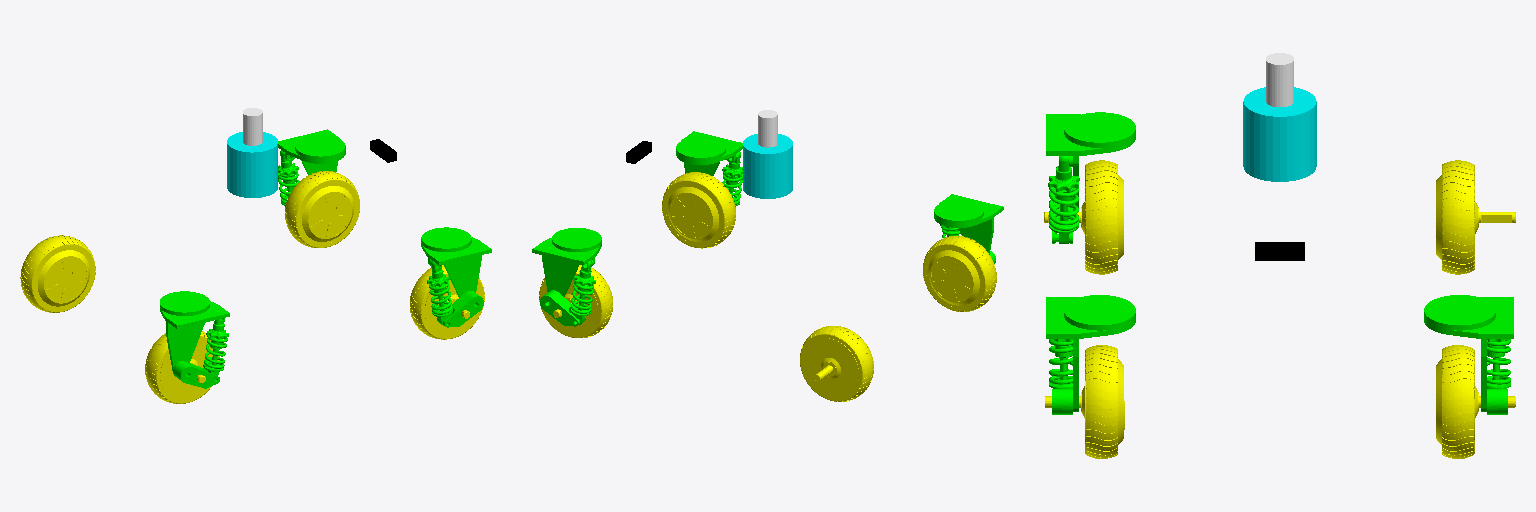
The robot description file, URDF, robot "robot_swerve":
<?xml version="1.0" encoding="UTF-8"?>
<robot name="robot_swerve" xmlns:xacro="http://www.ros.org/wiki/xacro">

<!-- <link name="base_footprint"/> -->

<link name="base_link">
  <inertial>
    <origin xyz="-1.7560433548719815e-16 -1.1706955699146543e-16 0.16007682828480888" rpy="0 0 0"/>
    <mass value="312.2452326040869"/>
    <inertia ixx="10.489644" iyy="13.496294" izz="21.038002" ixy="-0.0" iyz="-0.0" ixz="-0.0"/>
  </inertial>

  <visual>
    <origin xyz="0 0 0" rpy="0 0 0"/>
    <geometry>
      <mesh filename="package://swerve_description/meshes/base_link.stl" scale="0.001 0.001 0.001"/>
    </geometry>
     <material name="red">
      <color rgba="1.0 0.0 0.0 1.0"/>
     </material>
  </visual>
  
  <collision>
    <origin xyz="0 0 0" rpy="0 0 0"/>
    <geometry>
      <mesh filename="package://swerve_description/meshes/base_link.stl" scale="0.001 0.001 0.001"/>
    </geometry>
  </collision>
</link>


<link name="steering_front_left_link_1">
  <inertial>
    <origin xyz="-0.002154973883960132 0.029325881673029908 -0.05340557293320429" rpy="0 0 0"/>
    <mass value="2.725786674997393"/>
    <inertia ixx="0.00963" iyy="0.010207" izz="0.005039" ixy="0.000255" iyz="0.002216" ixz="6e-05"/>
  </inertial>

  <visual>
    <origin xyz="-0.3 -0.25 -0.15" rpy="0 0 0"/>
    <geometry>
      <mesh filename="package://swerve_description/meshes/steering_front_left_link_1.stl" scale="0.001 0.001 0.001"/>
    </geometry>
     <material name="green">
      <color rgba="0.0 1.0 0.0 1.0"/>
     </material>
  </visual>

  <collision>
    <origin xyz="-0.3 -0.25 -0.15" rpy="0 0 0"/>
    <geometry>
      <mesh filename="package://swerve_description/meshes/steering_front_left_link_1.stl" scale="0.001 0.001 0.001"/>
    </geometry>
  </collision>
</link>


<link name="wheel_front_left_link_1">
  <inertial>
    <origin xyz="0.0010516484363755074 -0.070148198176882 -0.00015464096777558986" rpy="0 0 0"/>
    <mass value="7.520468284756858"/>
    <inertia ixx="0.012445" iyy="0.021216" izz="0.012445" ixy="1.3e-05" iyz="-0.0" ixz="-0.0"/>
  </inertial>

  <visual>
    <origin xyz="-0.302084 -0.316305 -0.010803" rpy="0 0 0"/>
    <geometry>
      <mesh filename="package://swerve_description/meshes/wheel_front_left_link_1.stl" scale="0.001 0.001 0.001"/>
    </geometry>
     <material name="yellow">
        <color rgba="1.0 1.0 0.0 1.0"/>
     </material>
  </visual>

  <collision>
    <origin xyz="-0.302084 -0.316305 -0.010803" rpy="0 0 0"/>
    <geometry>
      <mesh filename="package://swerve_description/meshes/wheel_front_left_link_1.stl" scale="0.001 0.001 0.001"/>
    </geometry>
  </collision>
</link>


<link name="steering_front_right_link_1">
  <inertial>
    <origin xyz="-0.002154975530284542 -0.029325882748917065 -0.053405570351621384" rpy="0 0 0"/>
    <mass value="2.7257867924470394"/>
    <inertia ixx="0.00963" iyy="0.010207" izz="0.005039" ixy="-0.000255" iyz="-0.002216" ixz="6e-05"/>
  </inertial>

  <visual>
    <origin xyz="-0.3 0.25 -0.15" rpy="0 0 0"/>
    <geometry>
      <mesh filename="package://swerve_description/meshes/steering_front_right_link_1.stl" scale="0.001 0.001 0.001"/>
    </geometry>
     <material name="green">
        <color rgba="0.0 1.0 0.0 1.0"/>
     </material>
  </visual>

  <collision>
    <origin xyz="-0.3 0.25 -0.15" rpy="0 0 0"/>
    <geometry>
      <mesh filename="package://swerve_description/meshes/steering_front_right_link_1.stl" scale="0.001 0.001 0.001"/>
    </geometry>
  </collision>
</link>



<link name="wheel_front_right_link_1">
  <inertial>
    <origin xyz="0.0010510184097267117 0.07014771329558 -0.00015495520707122998" rpy="0 0 0"/>
    <mass value="7.520481495384261"/>
    <inertia ixx="0.012446" iyy="0.021217" izz="0.012445" ixy="-1.3e-05" iyz="0.0" ixz="0.0"/>
  </inertial>

  <visual>
    <origin xyz="-0.302085 0.316351 -0.010803" rpy="0 0 0"/>
    <geometry>
      <mesh filename="package://swerve_description/meshes/wheel_front_right_link_1.stl" scale="0.001 0.001 0.001"/>
    </geometry>
    <material name="yellow">
        <color rgba="1.0 1.0 0.0 1.0"/>
    </material>
  </visual>

  <collision>
    <origin xyz="-0.302085 0.316351 -0.010803" rpy="0 0 0"/>
    <geometry>
      <mesh filename="package://swerve_description/meshes/wheel_front_right_link_1.stl" scale="0.001 0.001 0.001"/>
    </geometry>
  </collision>
</link>


<link name="steering_rear_right_link_1">
  <inertial>
    <origin xyz="0.002154976007408882 -0.0293258829083054 -0.05340557305434568" rpy="0 0 0"/>
    <mass value="2.7257867677183323"/>
    <inertia ixx="0.00963" iyy="0.010207" izz="0.005039" ixy="0.000255" iyz="-0.002216" ixz="-6e-05"/>
  </inertial>

  <visual>
    <origin xyz="0.3 0.25 -0.15" rpy="0 0 0"/>
    <geometry>
      <mesh filename="package://swerve_description/meshes/steering_rear_right_link_1.stl" scale="0.001 0.001 0.001"/>
    </geometry>
     <material name="green">
        <color rgba="0.0 1.0 0.0 1.0"/>
     </material>
  </visual>
  
  <collision>
    <origin xyz="0.3 0.25 -0.15" rpy="0 0 0"/>
    <geometry>
      <mesh filename="package://swerve_description/meshes/steering_rear_right_link_1.stl" scale="0.001 0.001 0.001"/>
    </geometry>
  </collision>
</link>

<link name="wheel_rear_right_link_1">
  <inertial>
    <origin xyz="-0.001050888297434771 0.07014892128100272 -0.00015447191071956377" rpy="0 0 0"/>
    <mass value="7.520363690354945"/>
    <inertia ixx="0.012445" iyy="0.021216" izz="0.012445" ixy="1.3e-05" iyz="0.0" ixz="-0.0"/>
  </inertial>
  
  <visual>
    <origin xyz="0.302085 0.31638 -0.010803" rpy="0 0 0"/>
    <geometry>
      <mesh filename="package://swerve_description/meshes/wheel_rear_right_link_1.stl" scale="0.001 0.001 0.001"/>
    </geometry>
    <material name="yellow">
      <color rgba="1.0 1.0 0.0 1.0"/>
    </material>
  </visual>

  <collision>
    <origin xyz="0.302085 0.31638 -0.010803" rpy="0 0 0"/>
    <geometry>
      <mesh filename="package://swerve_description/meshes/wheel_rear_right_link_1.stl" scale="0.001 0.001 0.001"/>
    </geometry>
  </collision>
</link>

<link name="steering_rear_left_link_1">
  <inertial>
    <origin xyz="0.0021549732313028702 0.029325881245285235 -0.05340557292901292" rpy="0 0 0"/>
    <mass value="2.725786615393923"/>
    <inertia ixx="0.00963" iyy="0.010207" izz="0.005039" ixy="-0.000255" iyz="0.002216" ixz="-6e-05"/>
  </inertial>
  
  <visual>
    <origin xyz="0.3 -0.25 -0.15" rpy="0 0 0"/>
    <geometry>
      <mesh filename="package://swerve_description/meshes/steering_rear_left_link_1.stl" scale="0.001 0.001 0.001"/>
    </geometry>
     <material name="green">
      <color rgba="0.0 1.0 0.0 1.0"/>
     </material>
  </visual>
  
  <collision>
    <origin xyz="0.3 -0.25 -0.15" rpy="0 0 0"/>
    <geometry>
      <mesh filename="package://swerve_description/meshes/steering_rear_left_link_1.stl" scale="0.001 0.001 0.001"/>
    </geometry>
  </collision>
</link>


<link name="wheel_rear_left_link_1">
  <inertial>
    <origin xyz="-0.0010517287062624114 -0.0701484724958567 -0.00015489301004372596" rpy="0 0 0"/>
    <mass value="7.520410979673579"/>
    <inertia ixx="0.012445" iyy="0.021216" izz="0.012445" ixy="-1.3e-05" iyz="-0.0" ixz="0.0"/>
  </inertial>
  
  <visual>
    <origin xyz="0.302084 -0.3163 -0.010803" rpy="0 0 0"/>
    <geometry>
      <mesh filename="package://swerve_description/meshes/wheel_rear_left_link_1.stl" scale="0.001 0.001 0.001"/>
    </geometry>
    <material name="yellow">
        <color rgba="1.0 1.0 0.0 1.0"/>
    </material>
  </visual>
  
  <collision>
    <origin xyz="0.302084 -0.3163 -0.010803" rpy="0 0 0"/>
    <geometry>
      <mesh filename="package://swerve_description/meshes/wheel_rear_left_link_1.stl" scale="0.001 0.001 0.001"/>
    </geometry>
  </collision>
</link>

<!-- <joint name="base_joint" type="fixed">
  <parent link="base_footprint"/>
  <child link="base_link"/>
  <origin xyz="0 0 0.010" rpy="0 0 0"/>
</joint> -->

<joint name="steering_front_left_joint" type="continuous">
  <origin xyz="0.3 0.25 0.15" rpy="0 0 0"/>
  <parent link="base_link"/>
  <child link="steering_front_left_link_1"/>
  <limit effort="5" lower="-2.1" upper="2.1" velocity="6.28"/>
  <axis xyz="0.0 0.0 -1.0"/>
</joint>

<joint name="wheel_front_left_joint" type="continuous">
  <origin xyz="0.002084 0.066305 -0.139197" rpy="0 0 0"/>
  <parent link="steering_front_left_link_1"/>
  <child link="wheel_front_left_link_1"/>
  <limit effort="1.5" velocity="20"/>
  <axis xyz="0.0 1.0 0.0"/>
</joint>

<joint name="steering_front_right_joint" type="continuous">
  <origin xyz="0.3 -0.25 0.15" rpy="0 0 0"/>
  <parent link="base_link"/>
  <child link="steering_front_right_link_1"/>
  <limit effort="5" lower="-2.1" upper="2.1" velocity="6.28"/>
  <axis xyz="0.0 0.0 -1.0"/>
</joint>

<joint name="wheel_front_right_joint" type="continuous">
  <origin xyz="0.002085 -0.066351 -0.139197" rpy="0 0 0"/>
  <parent link="steering_front_right_link_1"/>
  <child link="wheel_front_right_link_1"/>
  <limit effort="1.5" velocity="20"/>
  <axis xyz="0.0 1.0 0.0"/>
</joint>

<joint name="steering_rear_right_joint" type="continuous">
  <origin xyz="-0.3 -0.25 0.15" rpy="0 0 0"/>
  <parent link="base_link"/>
  <child link="steering_rear_right_link_1"/>
  <limit effort="5" lower="-2.1" upper="2.1" velocity="6.28"/>
  <axis xyz="0.0 0.0 -1.0"/>
</joint>

<joint name="wheel_rear_right_joint" type="continuous">
  <origin xyz="-0.002085 -0.06638 -0.139197" rpy="0 0 0"/>
  <parent link="steering_rear_right_link_1"/>
  <child link="wheel_rear_right_link_1"/>
  <limit effort="1.5" velocity="20"/>
  <axis xyz="0.0 1.0 0.0"/>
</joint>

<joint name="steering_rear_left_joint" type="continuous">
  <origin xyz="-0.3 0.25 0.15" rpy="0 0 0"/>
  <parent link="base_link"/>
  <child link="steering_rear_left_link_1"/>
  <limit effort="5" lower="-2.1" upper="2.1" velocity="6.28"/>
  <axis xyz="0.0 0.0 -1.0"/>
</joint>

<joint name="wheel_rear_left_joint" type="continuous">
  <origin xyz="-0.002084 0.0663 -0.139197" rpy="0 0 0"/>
  <parent link="steering_rear_left_link_1"/>
  <child link="wheel_rear_left_link_1"/>
  <limit effort="1.5" velocity="20"/>
  <axis xyz="0.0 1.0 0.0"/>
</joint>

  <!-- *********************** IMU SETUP *********************************  -->
  <!-- Each sensor must be attached to a link.                              --> 
  
  <joint name="imu_joint" type="fixed">
    <parent link="base_link"/>
    <child link="imu_link"/>
    <origin xyz="0 0 0" rpy="0 0 0"/>
  </joint>

  <link name="imu_link"/>

  <!-- *********************** GPS SETUP **********************************  -->
  <joint name="gps_joint" type="fixed">
    <parent link="base_link"/>
    <child link="gps_link"/>
    <origin xyz="0 0 0.36 " rpy="0 0 0"/>
  </joint>

  <link name="gps_link">
  
    <collision>
     <origin xyz="0 0 0" rpy="0 0 0"/>
     <geometry>
      <cylinder radius="0.02" length="0.07"/>
     </geometry>
    </collision>
    
    <visual>
     <origin xyz="0 0 0" rpy="0 0 0"/>
     <geometry>
      <cylinder radius="0.02" length="0.07"/>
     </geometry>
     <material name="white">
        <color rgba="1.0 1.0 1.0 1.0"/>
     </material>
    </visual>
    
    <inertial>
      <mass value="0.114" />
      <origin xyz="0 0 0" rpy="0 0 0"/>
      <inertia ixx="0.001" ixy="0" ixz="0" iyy="0.001" iyz="0" izz="0.001" />
    </inertial>

  </link>
  <!-- *********************** LIDAR SETUP **********************************  -->
  <joint name="lidar_joint" type="fixed">
    <parent link="base_link"/>
    <child link="lidar_link"/>
    <origin xyz="0 0 0.28" rpy="0 0 0"/>
  </joint>

  <link name="lidar_link">
  
    <collision>
     <origin xyz="0 0 0" rpy="0 0 0"/>
     <geometry>
      <cylinder radius="0.0508" length="0.1"/>
     </geometry>
    </collision>
    
    <visual>
     <origin xyz="0 0 0" rpy="0 0 0"/>
     <geometry>
      <cylinder radius="0.0508" length="0.1"/>
     </geometry>
     <material name="cyan">
        <color rgba="0.0 1.0 1.0 1.0"/>
     </material>
    </visual>
    
    <inertial>
      <mass value="0.114" />
      <origin xyz="0 0 0" rpy="0 0 0"/>
      <inertia ixx="0.001" ixy="0" ixz="0" iyy="0.001" iyz="0" izz="0.001" />
    </inertial>
  </link>

    <!-- *********************** CAMERA SETUP **********************************  -->
  <joint name="camera_joint" type="fixed">
    <parent link="base_link"/>
    <child link="camera_link"/>
    <origin xyz="0.30 0 0.24" rpy="0 0 0"/>
  </joint>

  <link name="camera_link">
    <collision>
     <origin xyz="0 0 0" rpy="0 0 0"/>
     <geometry>
        <box size="0.02 0.07 0.02"/>
     </geometry>
    </collision>
    
    <visual>
     <origin xyz="0 0 0" rpy="0 0 0"/>
     <geometry>
        <box size="0.02 0.07 0.02"/>
     </geometry>
     <material name="black">
        <color rgba="0.0 0.0 0.0 1.0"/>
     </material>
    </visual>
    
    <inertial>
      <mass value="0.114" />
      <origin xyz="0 0 0" rpy="0 0 0"/>
      <inertia ixx="0.001" ixy="0" ixz="0" iyy="0.001" iyz="0" izz="0.001" />
    </inertial>
  </link>

<ros2_control name="GazeboSystem" type="system">
    <hardware>
      <plugin>gazebo_ros2_control/GazeboSystem</plugin>
    </hardware>
    
    <joint name="wheel_front_left_joint">
      <command_interface name="velocity">
        <param name="min">-3.14</param>
        <param name="max">3.14</param>
      </command_interface>
      <state_interface name="velocity"/>
      <state_interface name="effort"/>
    </joint>

    <joint name="wheel_front_right_joint">
      <command_interface name="velocity">
        <param name="min">-3.14</param>
        <param name="max">3.14</param>
      </command_interface>
      <state_interface name="velocity"/>
      <state_interface name="effort"/>
    </joint>

    <joint name="wheel_rear_left_joint">
      <command_interface name="velocity">
        <param name="min">-3.14</param>
        <param name="max">3.14</param>
      </command_interface>
      <state_interface name="velocity"/>
      <state_interface name="effort"/>
    </joint>

    <joint name="wheel_rear_right_joint">
      <command_interface name="velocity">
        <param name="min">-3.14</param>
        <param name="max">3.14</param>
      </command_interface>
      <state_interface name="velocity"/>
      <state_interface name="effort"/>
    </joint>

    <joint name="steering_front_left_joint">
      <command_interface name="position">
        <param name="min">-3.14</param>
        <param name="max">3.14</param>
      </command_interface>
      <state_interface name="position"/>
      <state_interface name="velocity"/>
      <state_interface name="effort"/>
    </joint>

    <joint name="steering_front_right_joint">
      <command_interface name="position">
        <param name="min">-3.14</param>
        <param name="max">3.14</param>
      </command_interface>
      <state_interface name="position"/>
      <state_interface name="velocity"/>
      <state_interface name="effort"/>
    </joint>

    <joint name="steering_rear_left_joint">
      <command_interface name="position">
        <param name="min">-3.14</param>
        <param name="max">3.14</param>
      </command_interface>
      <state_interface name="position"/>
      <state_interface name="velocity"/>
      <state_interface name="effort"/>
    </joint>

    <joint name="steering_rear_right_joint">
      <command_interface name="position">
        <param name="min">-3.14</param>
        <param name="max">3.14</param>
      </command_interface>
      <state_interface name="position"/>
      <state_interface name="velocity"/>
      <state_interface name="effort"/>
    </joint>
  </ros2_control>

</robot>

--- Render facts (derived) ---
Views: 3 orthographic renders of the robot side by side, from view 1: azimuth 30°, elevation 25°; view 2: azimuth 150°, elevation 25°; view 3: azimuth 270°, elevation 25°.
Model robot_swerve with 13 links and 12 joints (8 continuous, 4 fixed), rooted at base_link, posed all joints at 0.
Visible links, largest first — view 1: steering_front_right_link_1, wheel_rear_left_link_1, wheel_front_left_link_1, steering_rear_right_link_1, lidar_link, steering_front_left_link_1, wheel_rear_right_link_1, wheel_front_right_link_1, gps_link; view 2: steering_front_left_link_1, wheel_front_right_link_1, wheel_rear_left_link_1, wheel_rear_right_link_1, lidar_link, steering_front_right_link_1, steering_rear_right_link_1, wheel_front_left_link_1, gps_link; view 3: lidar_link, steering_rear_right_link_1, steering_front_right_link_1, steering_front_left_link_1, wheel_rear_left_link_1, wheel_front_right_link_1, wheel_front_left_link_1, wheel_rear_right_link_1, gps_link, camera_link.
Link boxes in pixels (left/top/right/bottom): steering_front_right_link_1: left=421, top=227, right=491, bottom=327; wheel_rear_left_link_1: left=20, top=235, right=95, bottom=312; wheel_front_left_link_1: left=285, top=171, right=359, bottom=247; steering_rear_right_link_1: left=160, top=291, right=229, bottom=388; lidar_link: left=227, top=132, right=277, bottom=197; steering_front_left_link_1: left=278, top=129, right=345, bottom=206; wheel_rear_right_link_1: left=145, top=331, right=219, bottom=403; wheel_front_right_link_1: left=410, top=265, right=484, bottom=339; gps_link: left=243, top=108, right=262, bottom=145; steering_front_left_link_1: left=532, top=228, right=601, bottom=326; wheel_front_right_link_1: left=662, top=172, right=735, bottom=248; wheel_rear_left_link_1: left=800, top=326, right=873, bottom=401; wheel_rear_right_link_1: left=923, top=236, right=996, bottom=311; lidar_link: left=743, top=134, right=792, bottom=198; steering_front_right_link_1: left=676, top=131, right=742, bottom=206; steering_rear_right_link_1: left=934, top=194, right=1003, bottom=263; wheel_front_left_link_1: left=539, top=265, right=612, bottom=337; gps_link: left=758, top=110, right=777, bottom=147; lidar_link: left=1243, top=87, right=1316, bottom=181; steering_rear_right_link_1: left=1046, top=112, right=1135, bottom=243; steering_front_right_link_1: left=1046, top=295, right=1135, bottom=414; steering_front_left_link_1: left=1424, top=295, right=1513, bottom=414; wheel_rear_left_link_1: left=1436, top=160, right=1515, bottom=274; wheel_front_right_link_1: left=1045, top=345, right=1124, bottom=458; wheel_front_left_link_1: left=1436, top=345, right=1515, bottom=458; wheel_rear_right_link_1: left=1044, top=160, right=1123, bottom=274; gps_link: left=1266, top=53, right=1293, bottom=106; camera_link: left=1255, top=242, right=1304, bottom=260.
Size in the robot's own frame: 0.765 by 0.6541 by 0.4637 metres.
7 mesh visuals loaded from 9 distinct referenced files (7 binary STL); not drawn: 2 (reference not matched to a file when rendering).